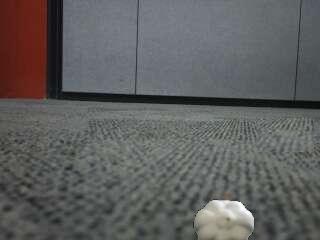Garlic: (192, 199, 255, 240)
